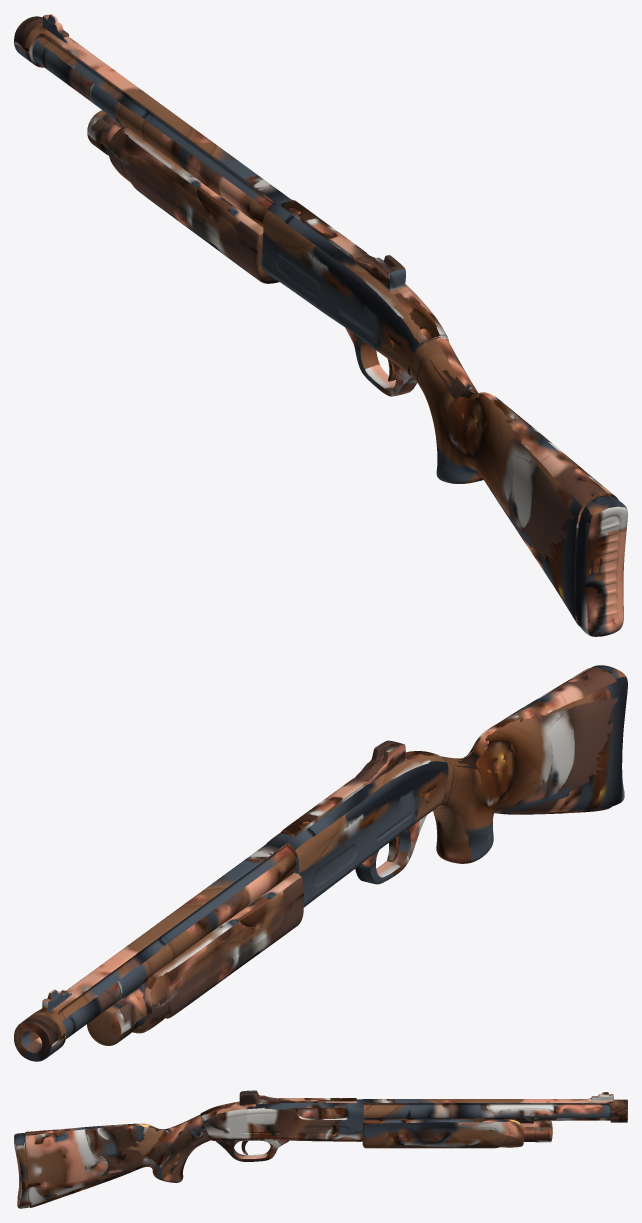
Rendered from ShotGun.fbx.
3 renders of one model, top to bottom at view 1: azimuth 30°, elevation 25°; view 2: azimuth 150°, elevation 25°; view 3: azimuth 270°, elevation 25°, orthographic. The views are drawn at different scales.
Visible parts, largest first — view 1: node_0; view 2: node_0; view 3: node_0.
Part boxes in pixels (left/top/right/bottom): node_0: left=14, top=14, right=627, bottom=636; node_0: left=14, top=665, right=627, bottom=1061; node_0: left=14, top=1090, right=627, bottom=1208.
Size of the model in its own units: 5.71 by 24.35 by 118.
